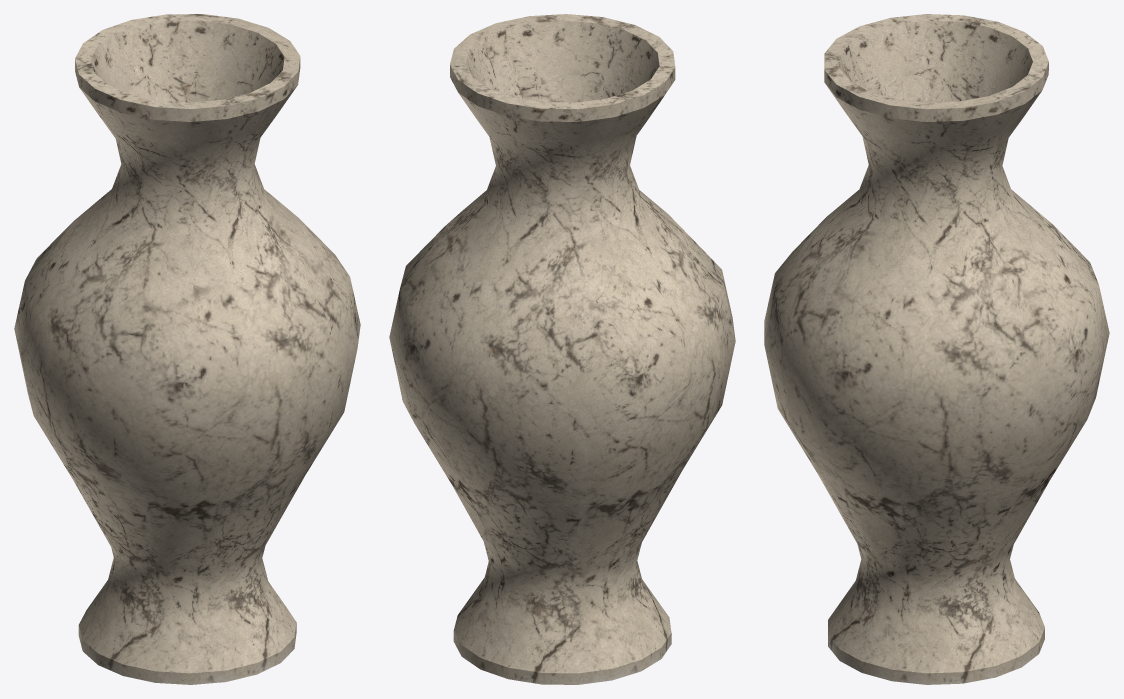
Rendered from vase.glb.
3 views of the same model, side by side, from view 1: azimuth 30°, elevation 25°; view 2: azimuth 150°, elevation 25°; view 3: azimuth 270°, elevation 25° (orthographic).
Visible parts, largest first — view 1: Vaso 2; view 2: Vaso 2; view 3: Vaso 2.
Boxes of the visible parts, x1,y1,x2,y2 form: Vaso 2: (14, 14, 360, 684); Vaso 2: (389, 14, 735, 684); Vaso 2: (764, 14, 1109, 684).
Size of the model in its own units: 0.3103 by 0.5706 by 0.3092.
Materials: 1 (1 with a texture image).
